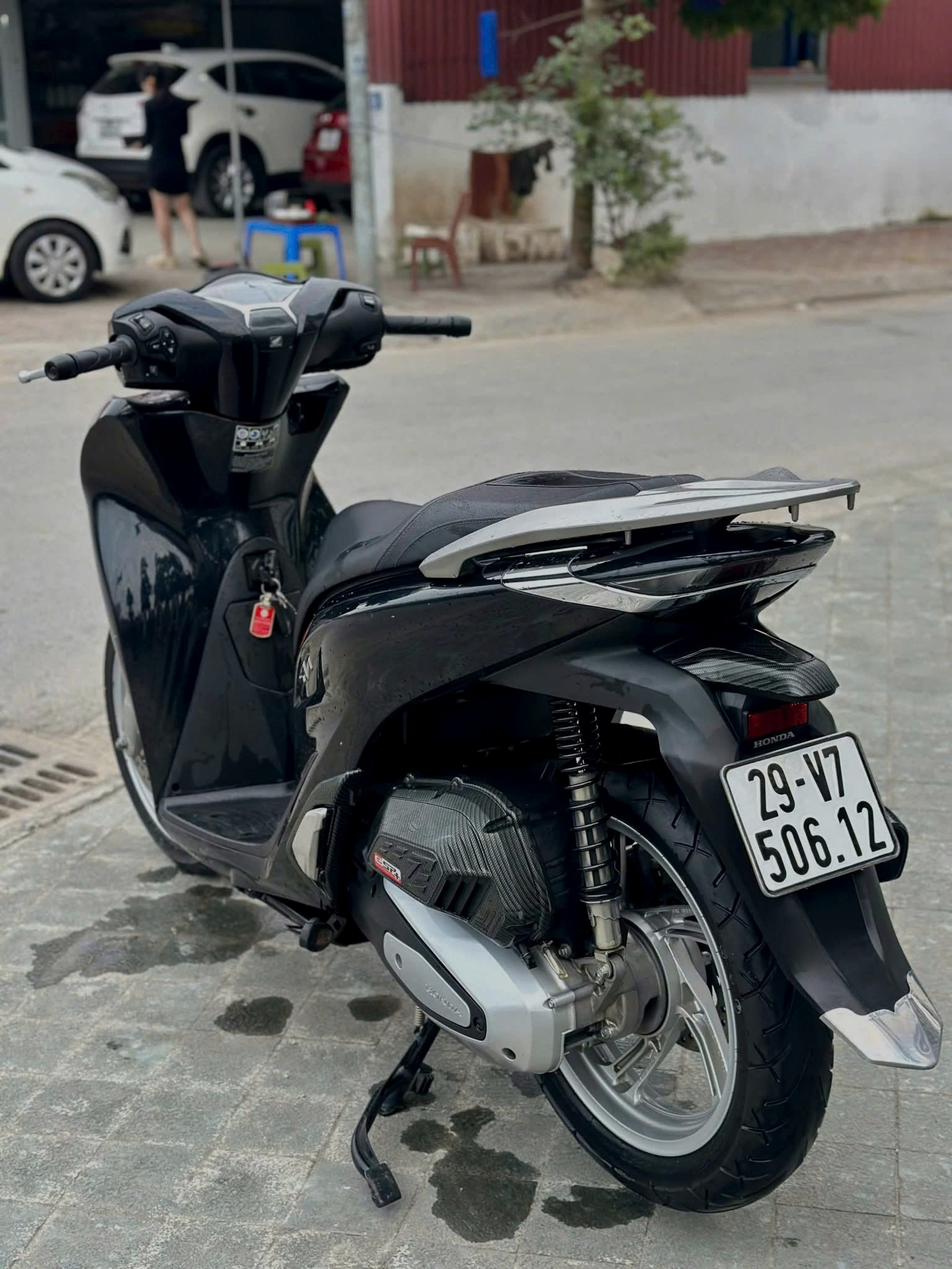Bien-so: (699, 725, 904, 913)
